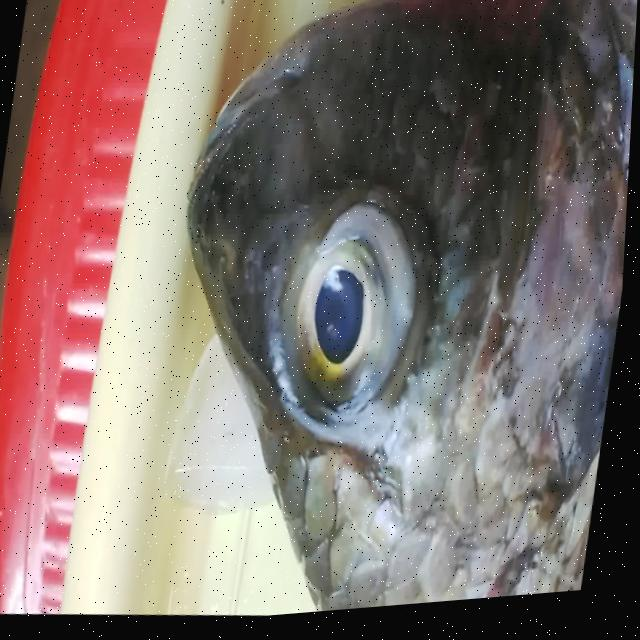Fresh: (252, 135, 447, 507)
